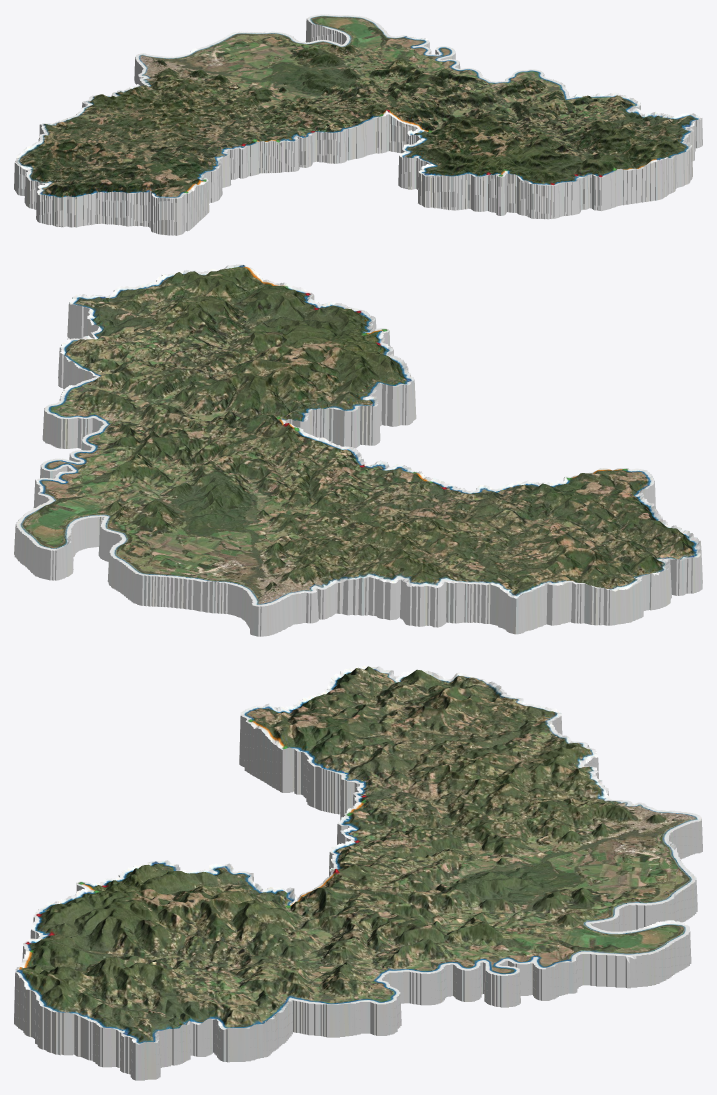
3 renders of one model, top to bottom at view 1: azimuth 30°, elevation 25°; view 2: azimuth 150°, elevation 25°; view 3: azimuth 270°, elevation 25°, orthographic. The views are drawn at different scales.
Size of the model in its own units: 1 by 0.0666 by 0.7692.
Materials: 1 (1 with a texture image).
